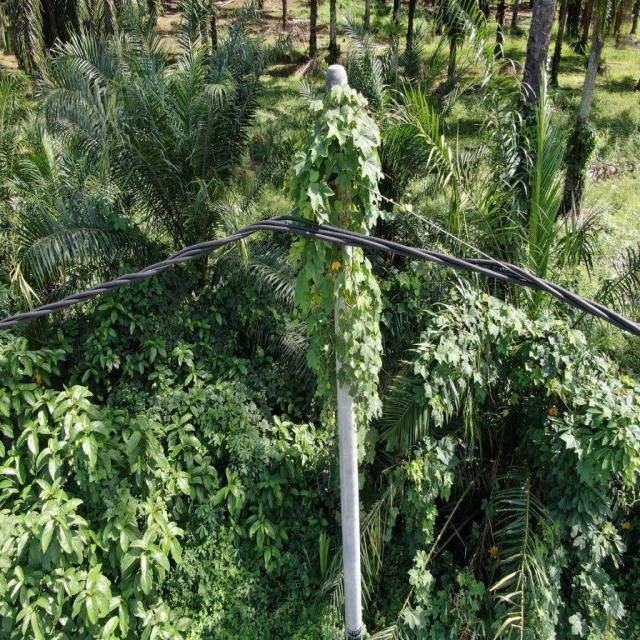critical vegetation: (282, 78, 389, 448)
